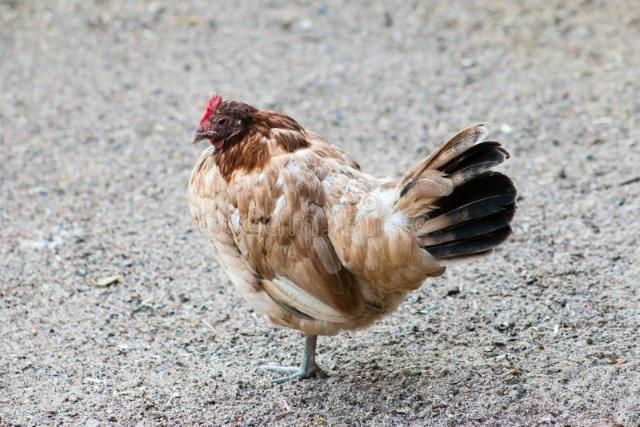Chicken: (186, 93, 517, 383)
